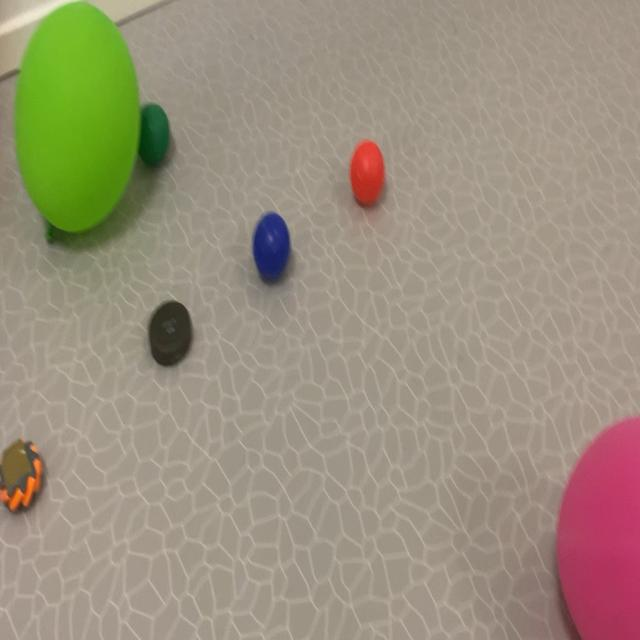7: (334, 98, 418, 251)
blue ball: (130, 65, 417, 307)
green ball: (237, 150, 315, 312)
red ball: (132, 58, 188, 220)
